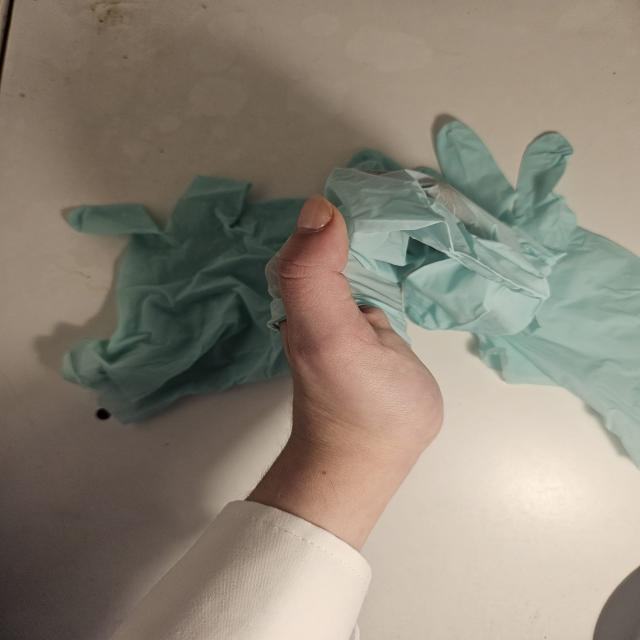glove_partial: (265, 166, 560, 447)
